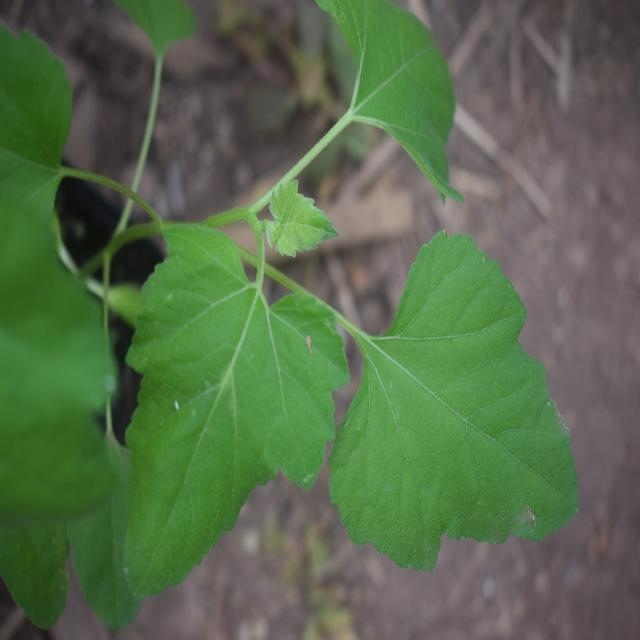cocklebur: (82, 25, 577, 572)
